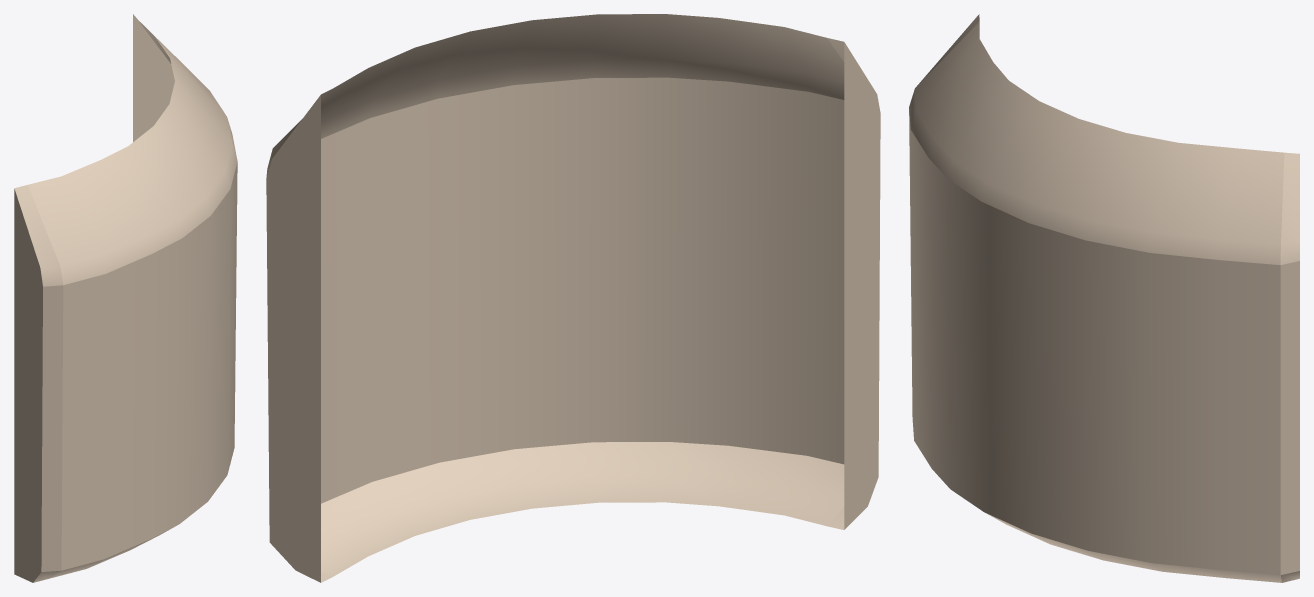
Rendered from Module_Ss_wall_1X_E2.FBX.
The picture shows the model from 3 angles, left to right: view 1: azimuth 30°, elevation 25°; view 2: azimuth 150°, elevation 25°; view 3: azimuth 270°, elevation 25°; orthographic projection. The views are drawn at different scales.
Parts seen in each view (by area): view 1: Module_Ss_wall_1X_E2; view 2: Module_Ss_wall_1X_E2; view 3: Module_Ss_wall_1X_E2.
Part boxes in pixels (x1,y1,x2,y2): Module_Ss_wall_1X_E2: (14, 14, 237, 582); Module_Ss_wall_1X_E2: (266, 14, 880, 582); Module_Ss_wall_1X_E2: (909, 14, 1299, 582).
Size of the model in its own units: 33.88 by 39.63 by 33.23.
